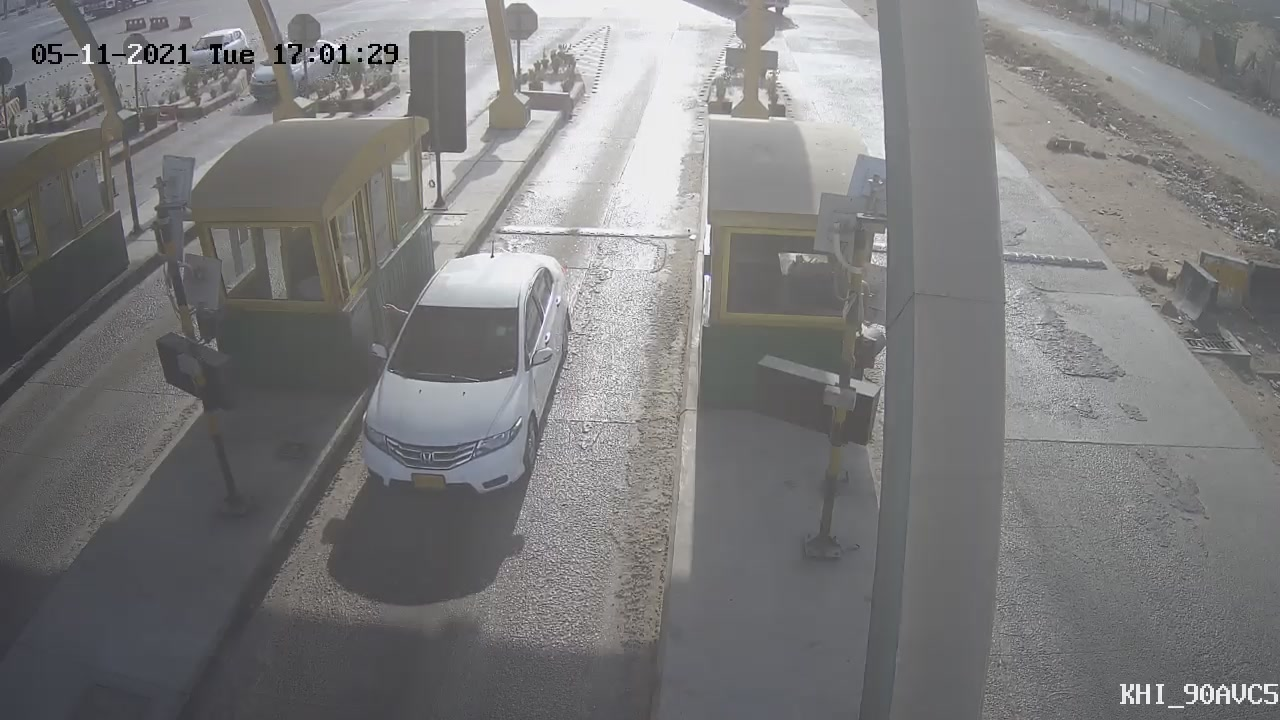F1: (329, 226, 595, 522)
